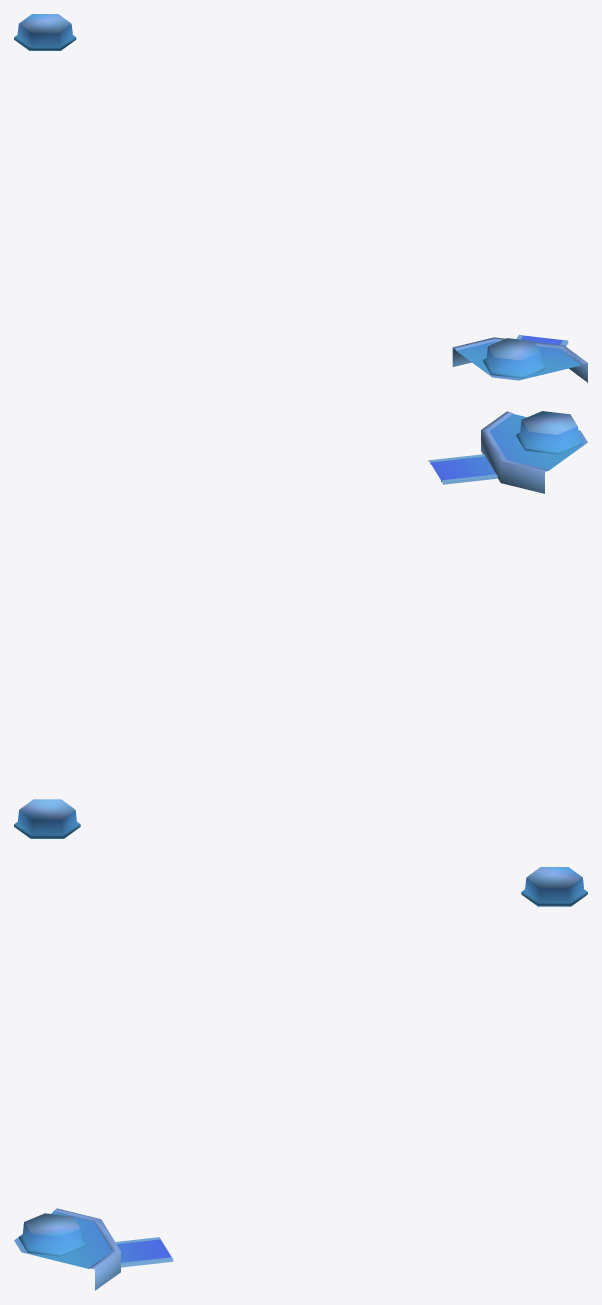
The model's file is Area_11_6.fbx.
3 views of the same model, one above another, from view 1: azimuth 30°, elevation 25°; view 2: azimuth 150°, elevation 25°; view 3: azimuth 330°, elevation 25° (orthographic). The views are drawn at different scales.
Visible parts, largest first — view 1: Area_11_6; view 2: Area_11_6; view 3: Area_11_6.
Part boxes in pixels (x1,y1,x2,y2): Area_11_6: (14,14,587,382); Area_11_6: (14,411,587,838); Area_11_6: (14,867,587,1290).
Bounding box in the file's own units: 791 × 236 × 6097.
